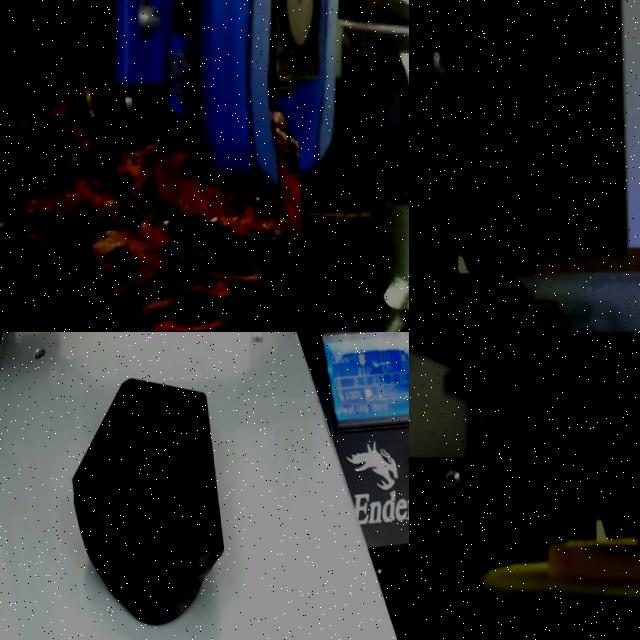spaghetti: (0, 87, 301, 332), (454, 261, 536, 325), (0, 57, 21, 139), (0, 165, 36, 184)
